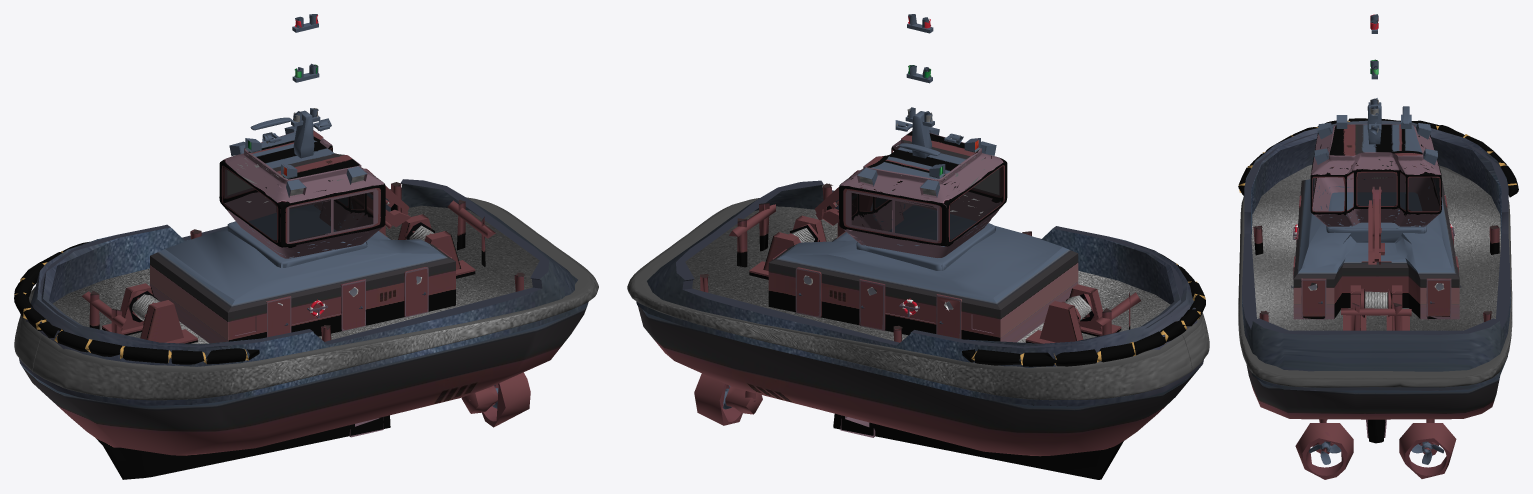
File: tug.glb
3 renders of one model, left to right at view 1: azimuth 30°, elevation 25°; view 2: azimuth 150°, elevation 25°; view 3: azimuth 270°, elevation 25°, orthographic. The views are drawn at different scales.
Visible parts, largest first — view 1: Object_13, Object_27, Object_23, Object_7, Object_6; view 2: Object_13, Object_27, Object_23, Object_7, Object_6; view 3: Object_13, Object_23, Object_27, Object_7, Object_6, Object_2.
Part boxes in pixels (left/top/right/bottom): Object_13: left=20, top=14, right=587, bottom=479; Object_27: left=14, top=197, right=598, bottom=400; Object_23: left=19, top=179, right=588, bottom=405; Object_7: left=223, top=148, right=373, bottom=242; Object_6: left=14, top=239, right=259, bottom=364; Object_13: left=638, top=14, right=1201, bottom=479; Object_27: left=627, top=198, right=1209, bottom=400; Object_23: left=636, top=180, right=1203, bottom=406; Object_7: left=851, top=156, right=1003, bottom=241; Object_6: left=962, top=253, right=1205, bottom=366; Object_13: left=1246, top=14, right=1499, bottom=479; Object_23: left=1242, top=120, right=1510, bottom=390; Object_27: left=1238, top=159, right=1512, bottom=387; Object_7: left=1312, top=136, right=1439, bottom=211; Object_6: left=1238, top=118, right=1518, bottom=197; Object_2: left=1365, top=178, right=1387, bottom=315.
Bounding box in the file's own units: 5.27 × 4.17 × 2.73.
15 materials, 14 textured.
